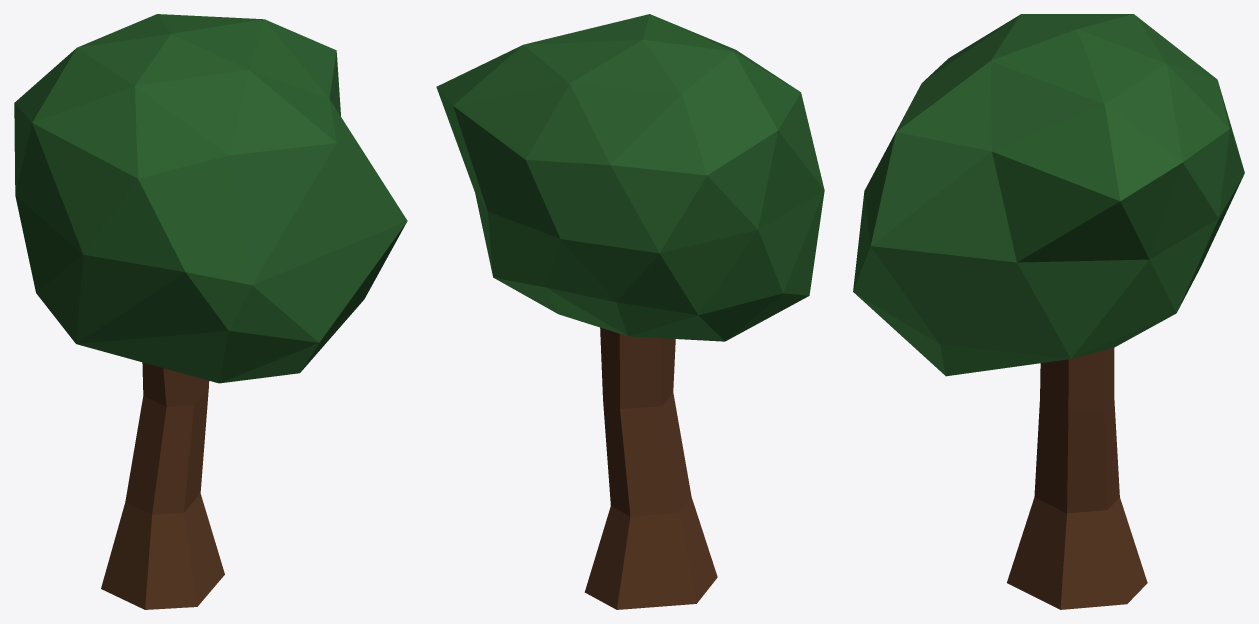
File: Tree2.glb
The picture shows the model from 3 angles, left to right: view 1: azimuth 30°, elevation 25°; view 2: azimuth 150°, elevation 25°; view 3: azimuth 270°, elevation 25°; orthographic projection. The views are drawn at different scales.
Parts seen in each view (by area): view 1: Tree3; view 2: Tree3; view 3: Tree3.
Part boxes in pixels (x1,y1,x2,y2): Tree3: (14,14,407,609); Tree3: (436,14,824,609); Tree3: (853,14,1244,609).
Size of the model in its own units: 2.74 by 4.4 by 2.8.
